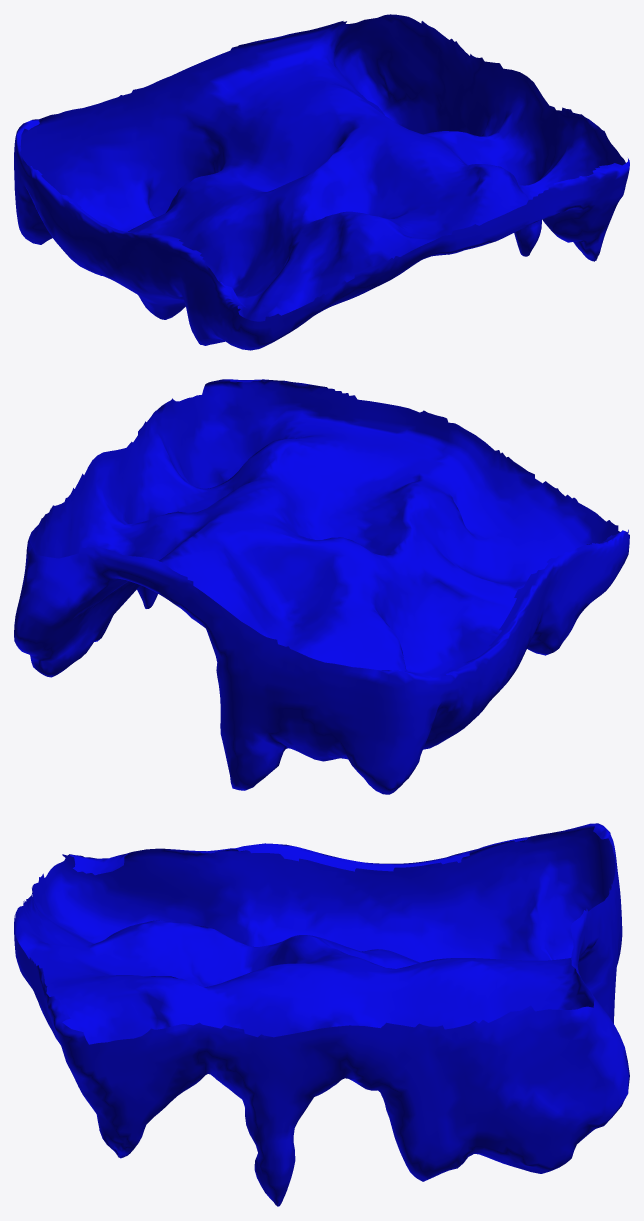
File: Plafond_LOW.fbx
3 views of the same model, one above another, from view 1: azimuth 30°, elevation 25°; view 2: azimuth 150°, elevation 25°; view 3: azimuth 270°, elevation 25° (orthographic). The views are drawn at different scales.
Visible parts, largest first — view 1: Plafond_LOW; view 2: Plafond_LOW; view 3: Plafond_LOW.
Part boxes in pixels (box(x1,y1,x2,y2)): Plafond_LOW: box(14, 14, 629, 350); Plafond_LOW: box(14, 379, 629, 794); Plafond_LOW: box(14, 823, 629, 1206).
Bounding box in the file's own units: 3535 × 1529 × 3618.
